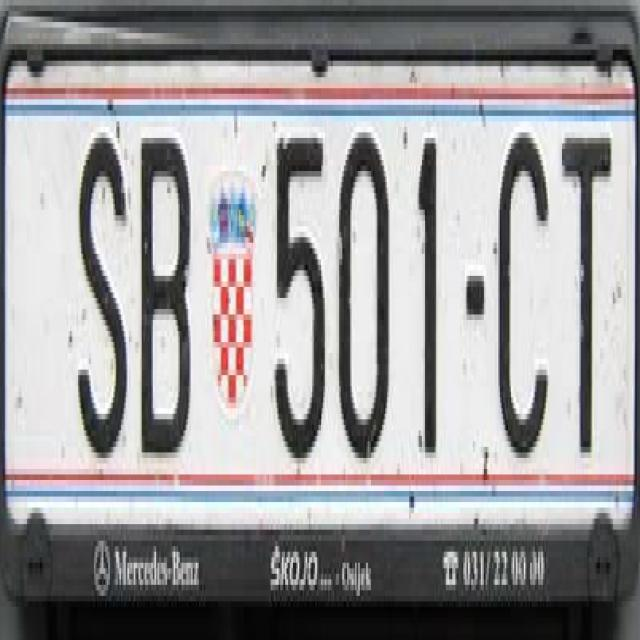Autre: (11, 76, 631, 518)
